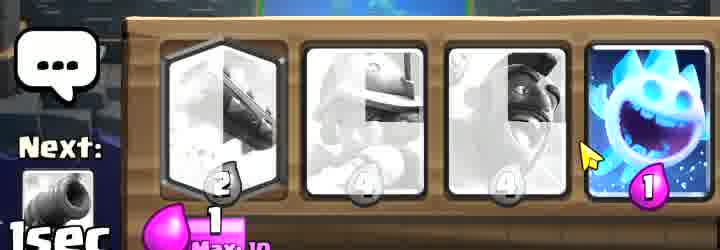ice-spirit: (598, 44, 716, 202)
